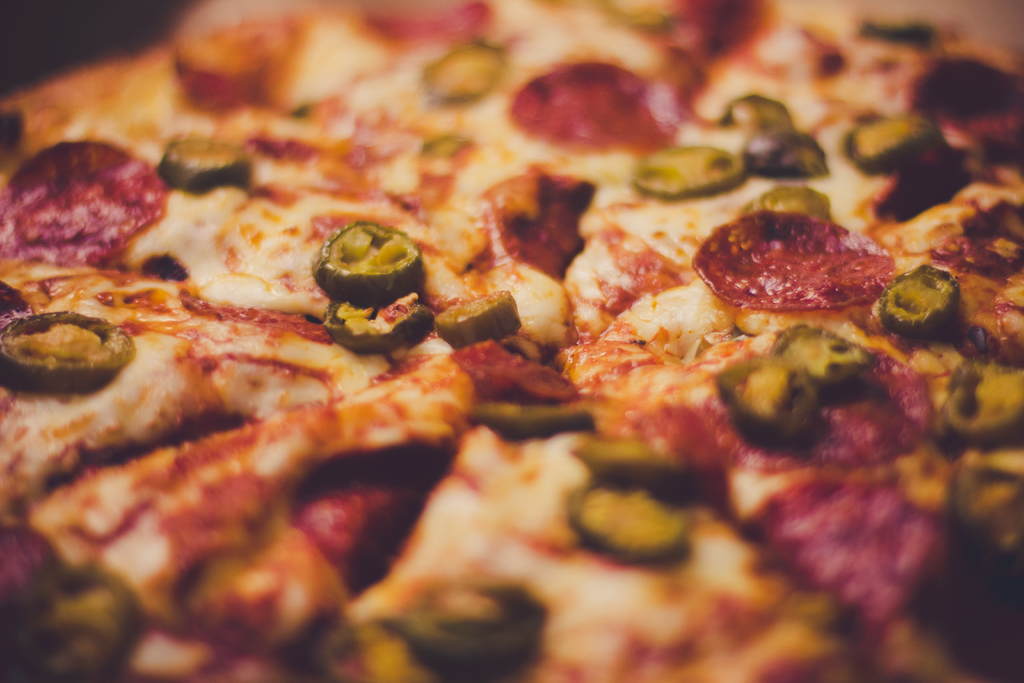Pizza: (0, 0, 1023, 669)
